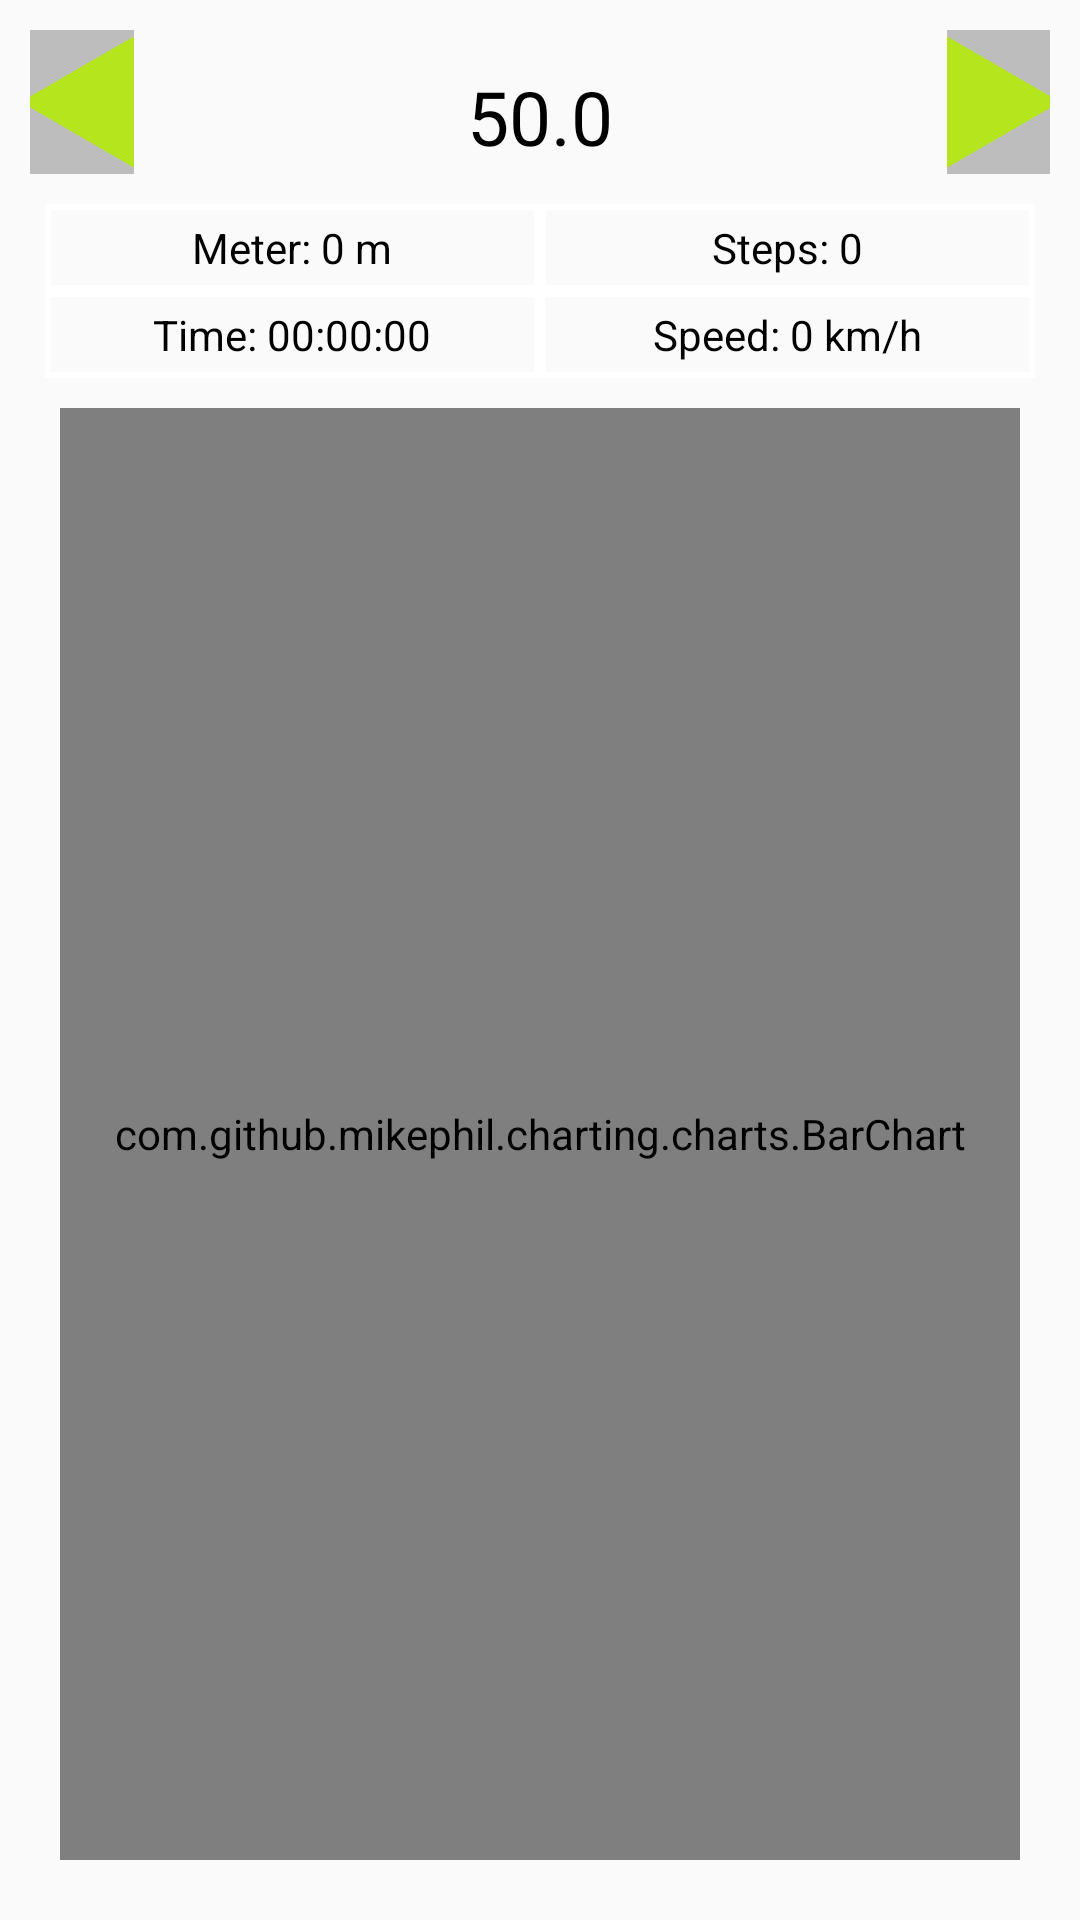

Where icons sit on this 1080px×1920px app screen, as Rect(x1, y1, x2, y2):
left pointer: Rect(30, 30, 134, 174)
right pointer: Rect(947, 30, 1050, 174)
